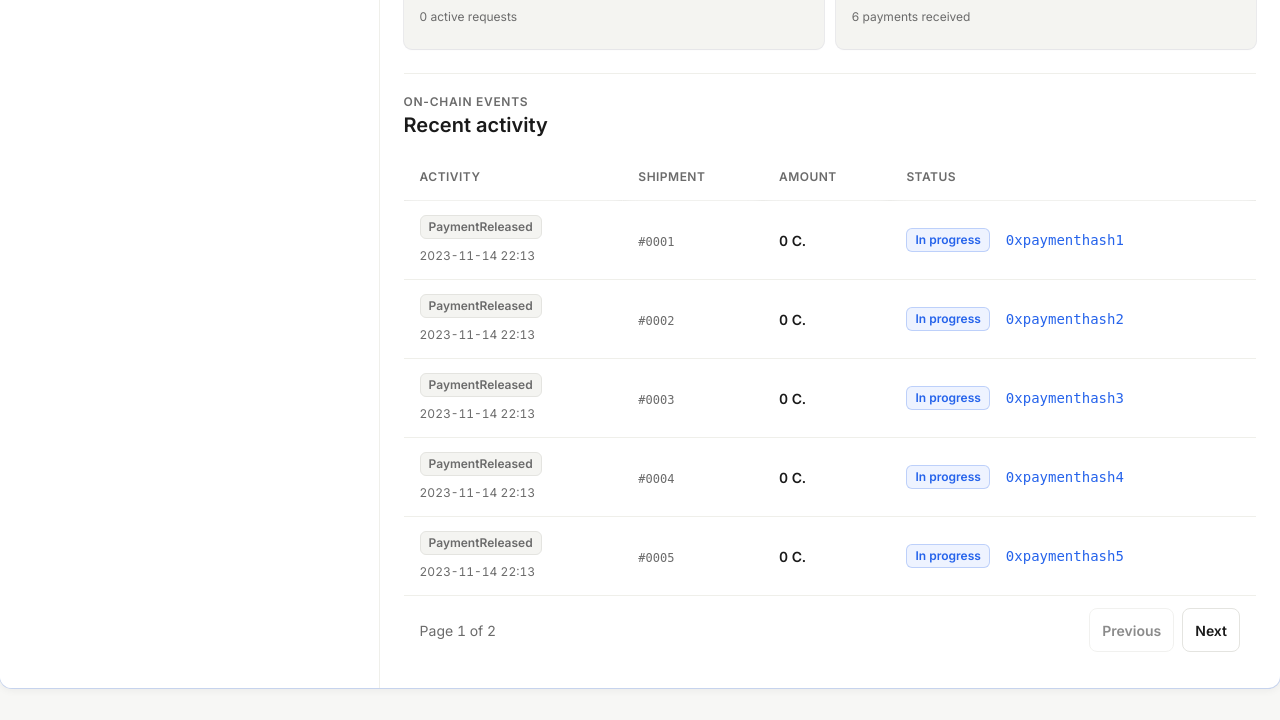
Account › paginates recent activity in groups of five
(page scrolled)
Expected: the row named "Open request #0001 timeline" is shown, left=404, top=201, right=1256, bottom=280
Expected: the number of rows named "Open request #" is 5, left=404, top=201, right=1256, bottom=280; left=404, top=280, right=1256, bottom=359; left=404, top=359, right=1256, bottom=438; left=404, top=438, right=1256, bottom=517; left=404, top=517, right=1256, bottom=595
Click the button "Next" at (1211, 630), box left=1182, top=608, right=1240, bottom=652
(page scrolled)
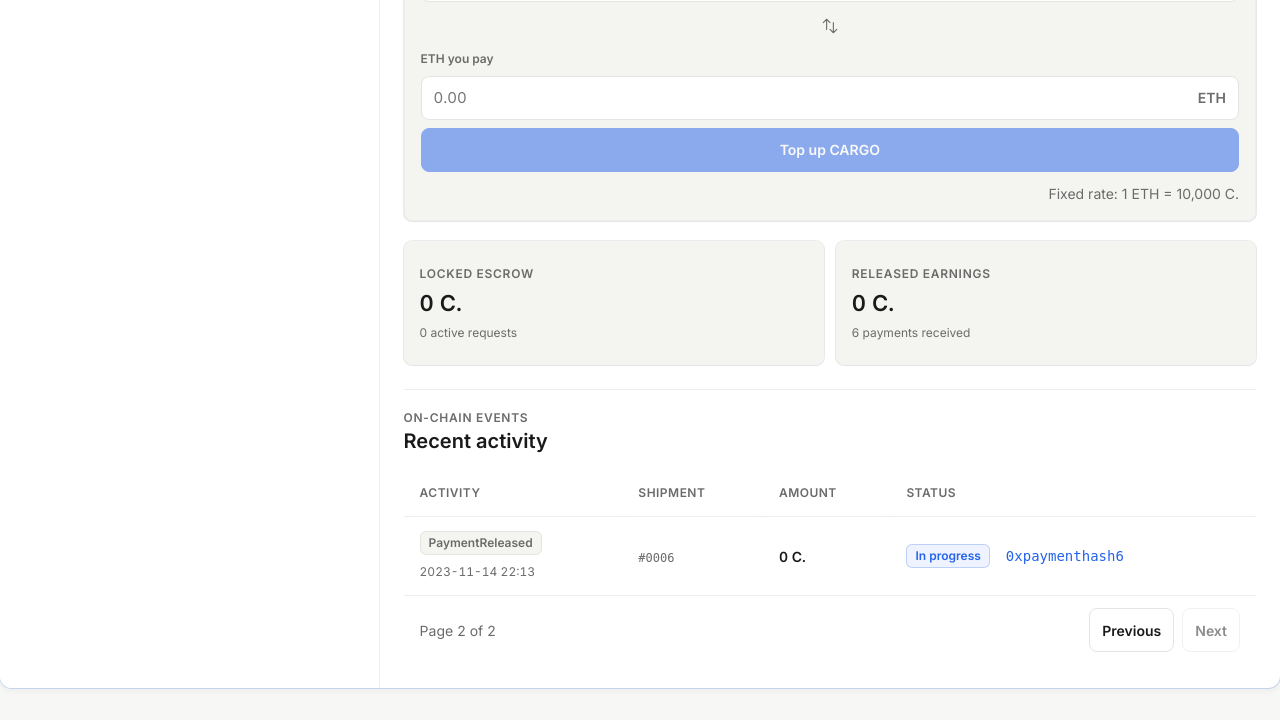
Expected: the number of rows named "Open request #" is 1, left=404, top=517, right=1256, bottom=595
Expected: the text "Page 2 of 2" is shown, left=420, top=620, right=496, bottom=641
Expected: the button "Next" is disabled, left=1182, top=608, right=1240, bottom=652
